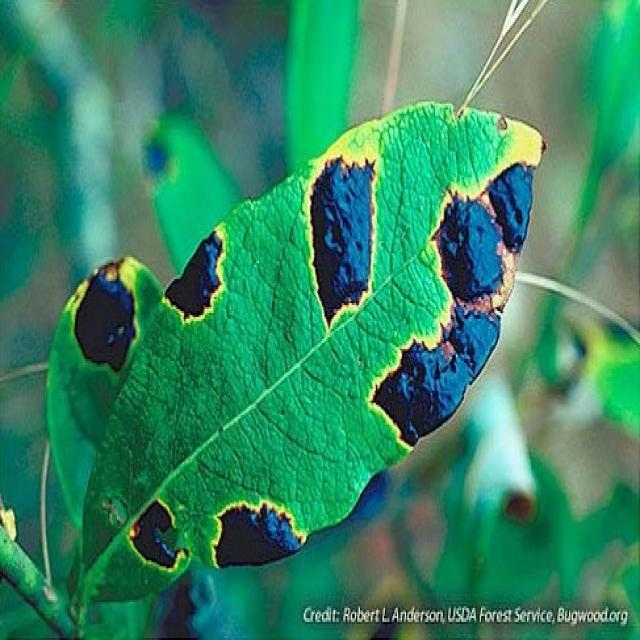Tar_Spot: (56, 176, 546, 570)
